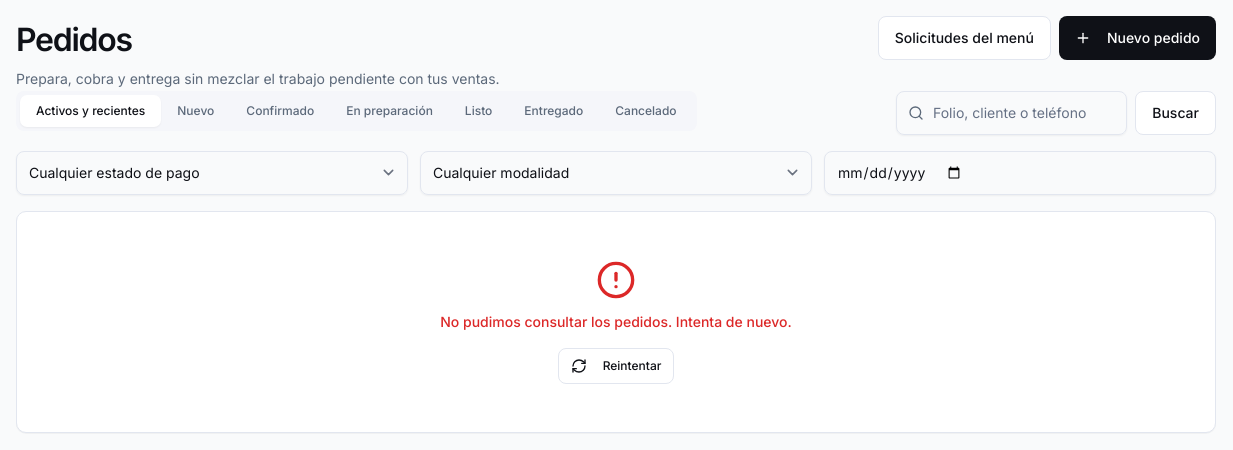
Test case: CustomerOrderListView › reports an online query failure and recovers on retry without claiming the device is offline
This screenshot has width=1233, height=450.
Expected: the text "No pudimos consultar los pedidos. Intenta de nuevo." is shown, [440,312,792,332]
Step 1. Click the button "Reintentar" → click(616, 366), box [558,348,674,384]
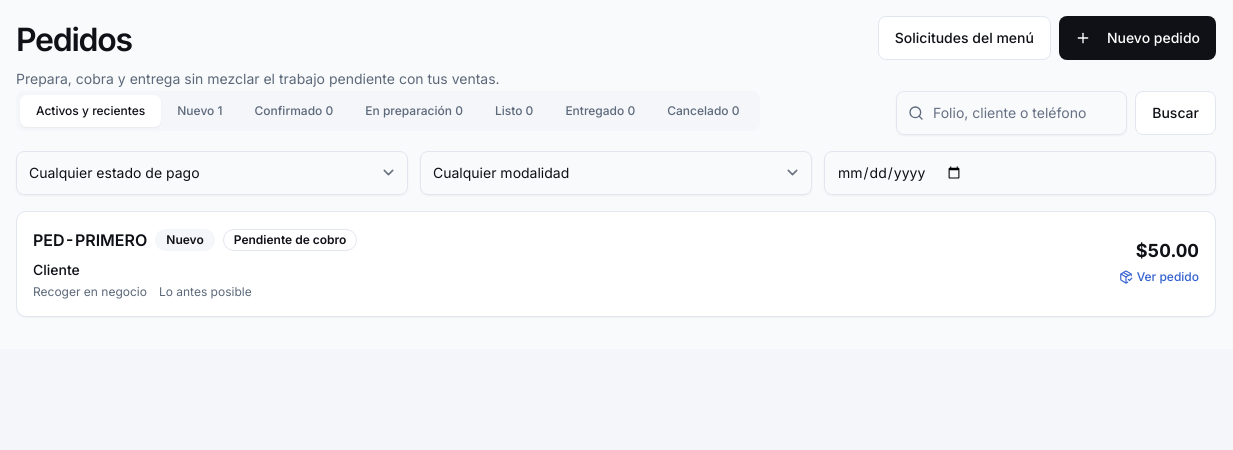
Expected: the text "PED-PRIMERO" is shown, [33,228,147,252]
